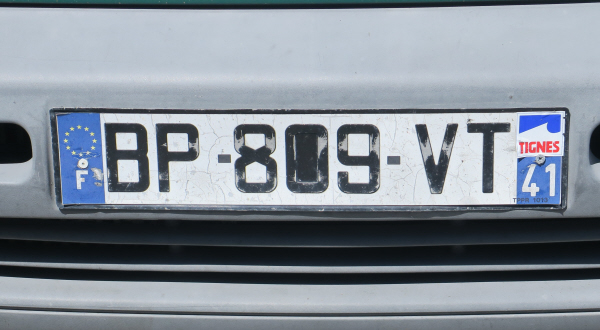license_plate: (53, 108, 567, 209)
